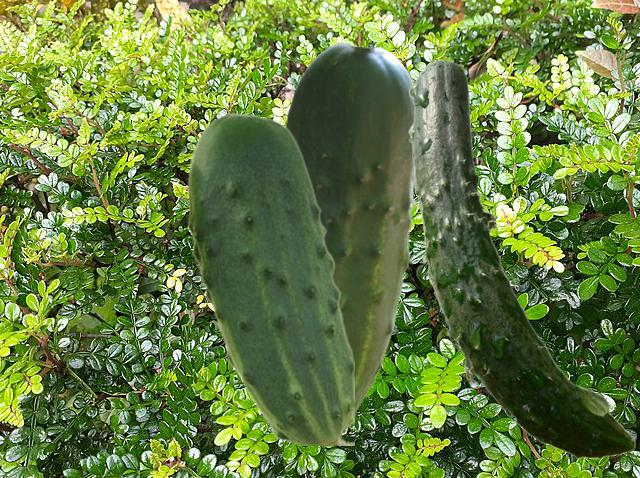cucumber: (407, 59, 635, 458), (187, 112, 353, 444), (283, 42, 417, 432)
